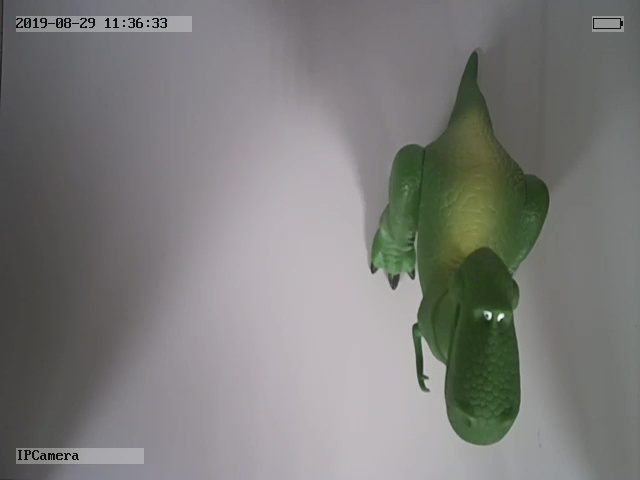rex: (371, 48, 550, 447)
